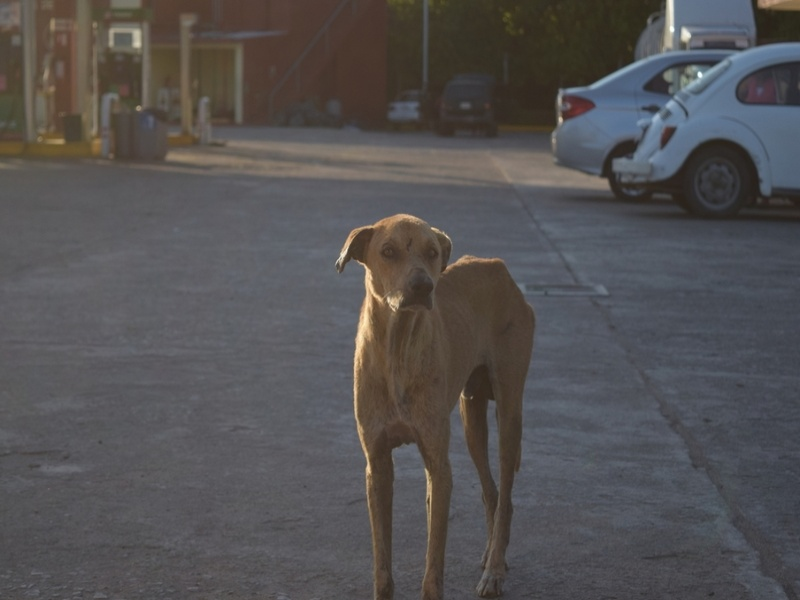dog: (333, 212, 538, 599)
